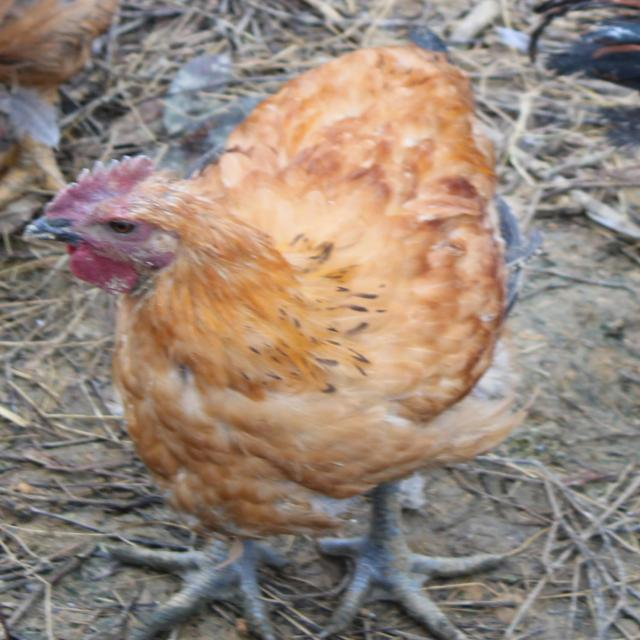hen: (2, 23, 614, 640)
